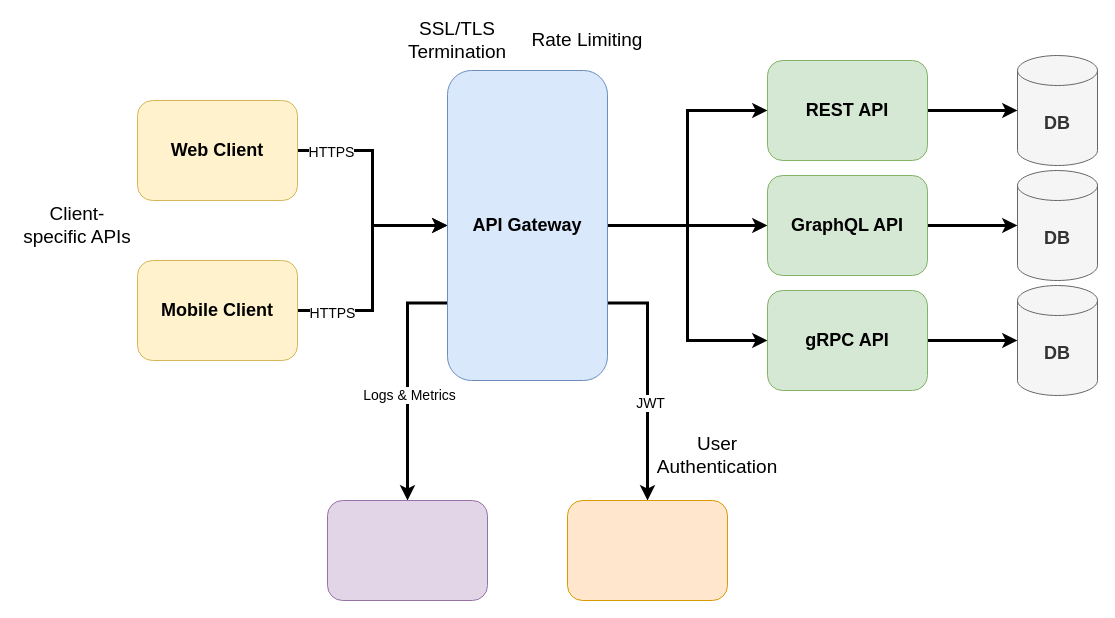
Some shapes in this 1115 by 618 pixel diagram are drawn without their labels. The shapes that lost their labels are listed below. From the top down, each one's centre as x and y in pixels, then its label:
the point at 407,550: Monitoring / Logging
the point at 647,550: Identity Provider
